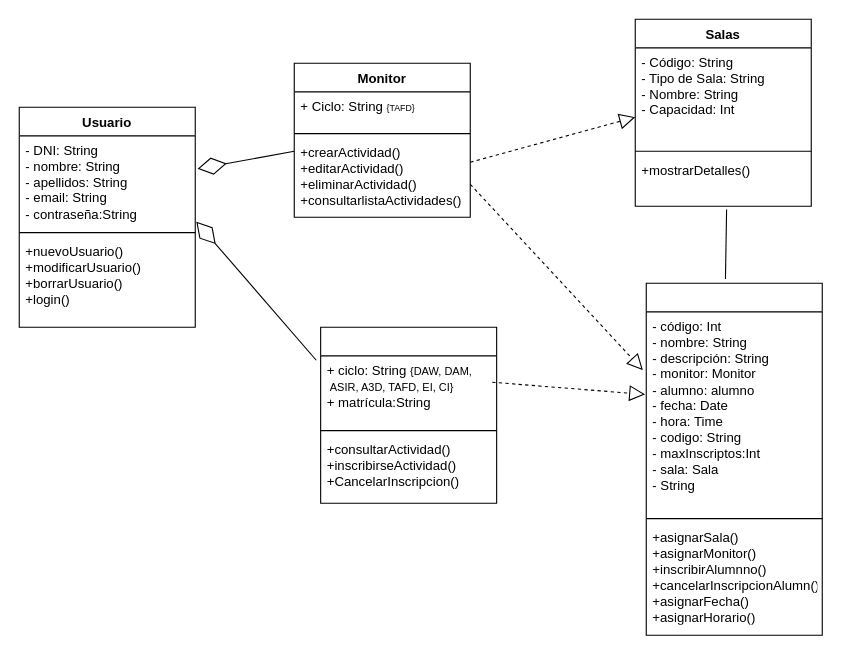
The diagram is 842 pixels wide and 658 high, and some of its shapes have lost their labels. Here are the shapes that lost their labels. From the top down, the box of each, then its label:
(320, 326, 497, 503): Alumno
(645, 282, 822, 635): Actividad
